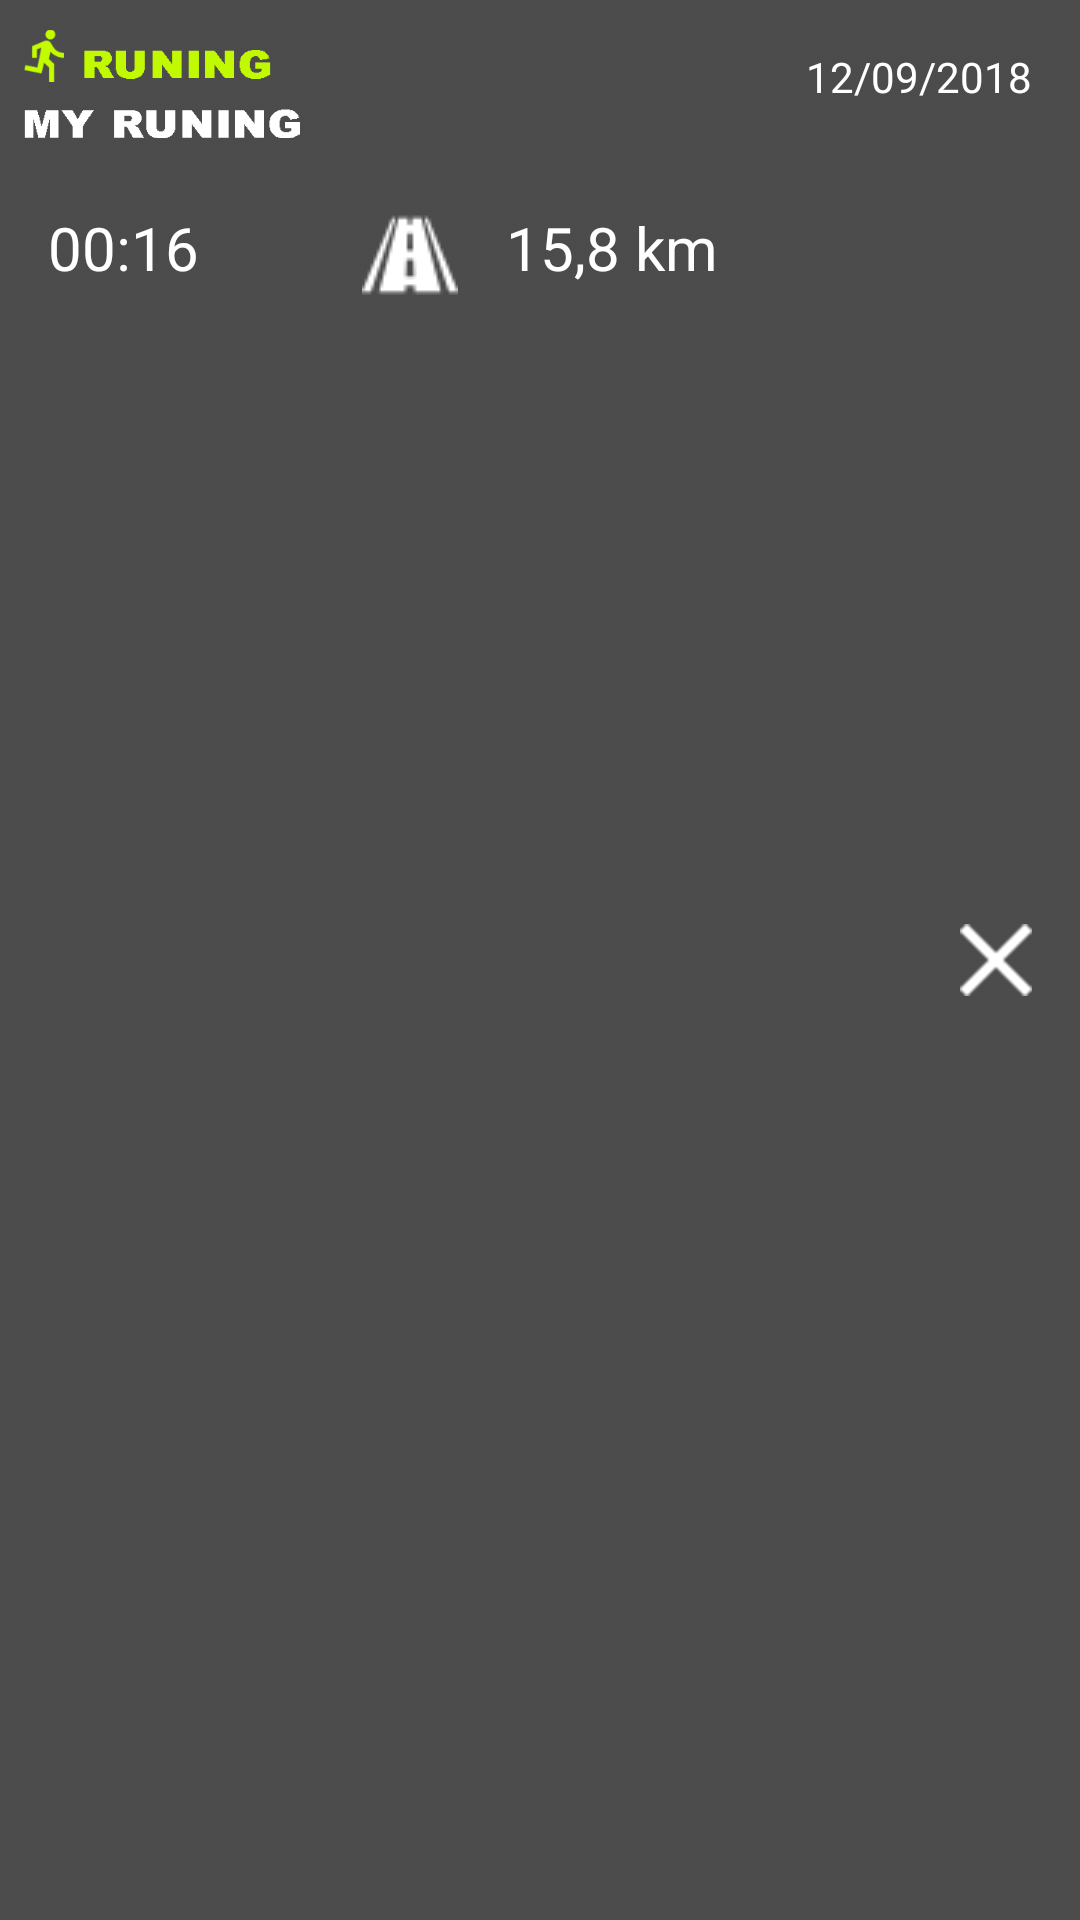

Screen size 1080px×1920px. Icon name, then its center in pixels as point (x, y):
delete: point (996, 960)
road: point (410, 255)
